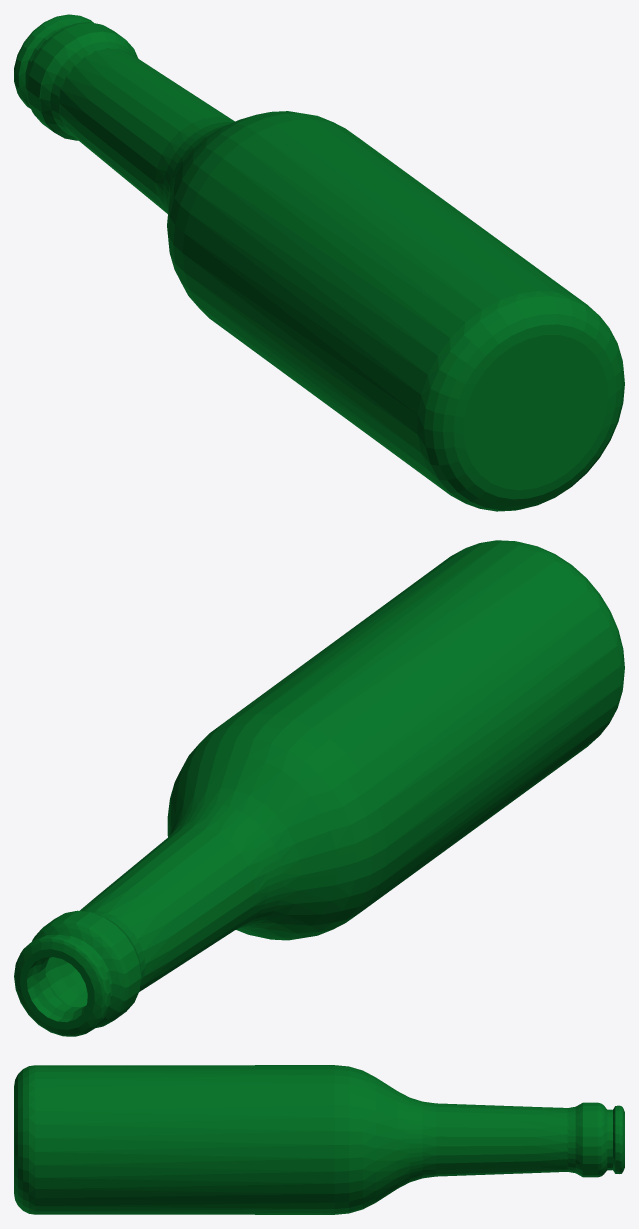
Rendered from glass_bottle.fbx.
3 views of the same model, one above another, from view 1: azimuth 30°, elevation 25°; view 2: azimuth 150°, elevation 25°; view 3: azimuth 270°, elevation 25° (orthographic). The views are drawn at different scales.
Visible parts, largest first — view 1: Bottle; view 2: Bottle; view 3: Bottle.
Part boxes in pixels (box(x1,y1,x2,y2)): Bottle: box(14, 14, 624, 511); Bottle: box(14, 540, 624, 1036); Bottle: box(14, 1065, 624, 1214).
Bounding box in the file's own units: 1743 × 1743 × 7112.
